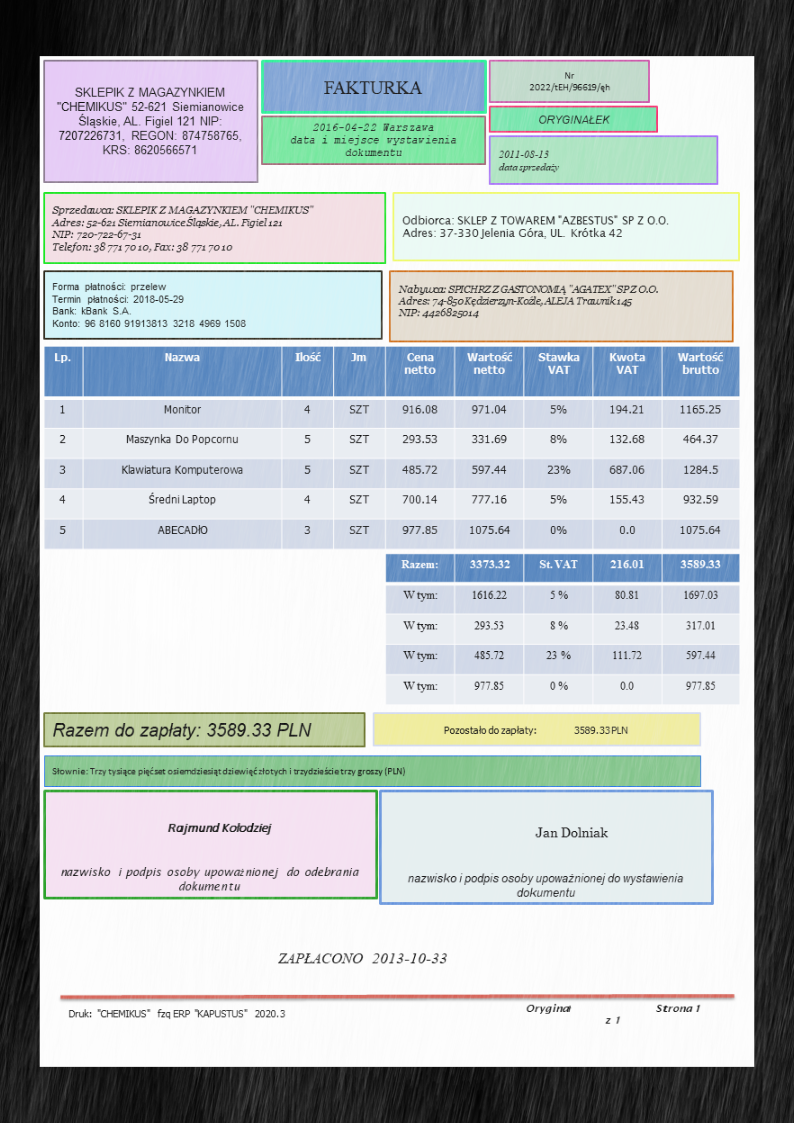Table: (42, 345, 741, 550), (384, 551, 741, 706)
TextBox: (48, 202, 318, 255), (55, 84, 247, 158), (396, 281, 661, 321), (49, 279, 247, 330), (59, 865, 360, 893), (406, 870, 684, 899), (400, 213, 671, 241), (288, 121, 459, 160), (50, 718, 314, 740), (49, 764, 407, 778), (524, 1002, 703, 1025), (67, 1006, 286, 1020), (277, 950, 447, 967), (442, 723, 628, 737), (528, 70, 612, 95), (320, 78, 424, 98), (496, 147, 560, 174), (165, 820, 273, 836), (533, 824, 611, 842), (536, 111, 612, 126)
